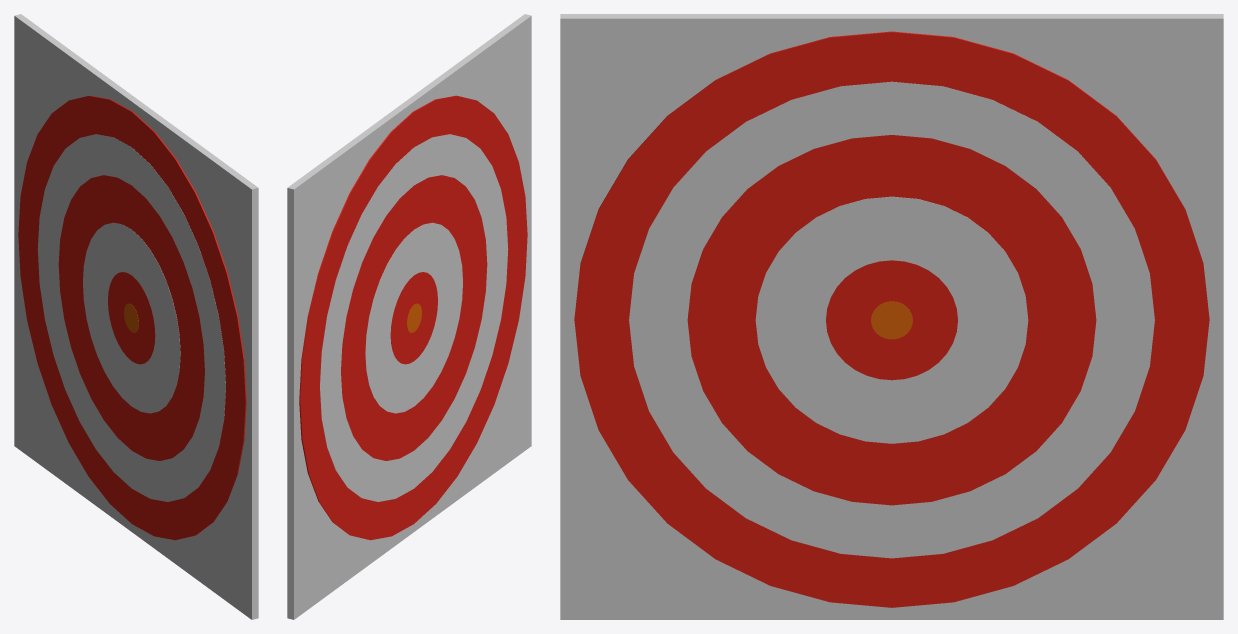
File: target.fbx
The picture shows the model from 3 angles, left to right: view 1: azimuth 30°, elevation 25°; view 2: azimuth 150°, elevation 25°; view 3: azimuth 270°, elevation 25°; orthographic projection. The views are drawn at different scales.
Parts seen in each view (by area): view 1: Cube, Cylinder, Cylinder.001, Cylinder.002, Cylinder.003, Cylinder.004; view 2: Cube, Cylinder, Cylinder.001, Cylinder.002, Cylinder.003, Cylinder.004; view 3: Cube, Cylinder, Cylinder.001, Cylinder.002, Cylinder.003, Cylinder.004, Cylinder.005.
Boxes of the visible parts, left/top/right/bottom form: Cube: left=14, top=14, right=258, bottom=619; Cylinder: left=18, top=95, right=246, bottom=540; Cylinder.001: left=37, top=134, right=225, bottom=501; Cylinder.002: left=58, top=175, right=204, bottom=460; Cylinder.003: left=83, top=222, right=180, bottom=413; Cylinder.004: left=108, top=272, right=155, bottom=364; Cube: left=287, top=14, right=531, bottom=619; Cylinder: left=299, top=95, right=527, bottom=540; Cylinder.001: left=320, top=134, right=508, bottom=501; Cylinder.002: left=341, top=175, right=487, bottom=460; Cylinder.003: left=365, top=222, right=462, bottom=413; Cylinder.004: left=390, top=272, right=437, bottom=364; Cube: left=560, top=14, right=1223, bottom=619; Cylinder: left=574, top=31, right=1209, bottom=607; Cylinder.001: left=629, top=81, right=1154, bottom=558; Cylinder.002: left=687, top=135, right=1096, bottom=505; Cylinder.003: left=755, top=196, right=1028, bottom=443; Cylinder.004: left=826, top=260, right=957, bottom=380; Cylinder.005: left=871, top=301, right=912, bottom=339.
Bounding box in the file's own units: 5.15 × 209 × 209.
